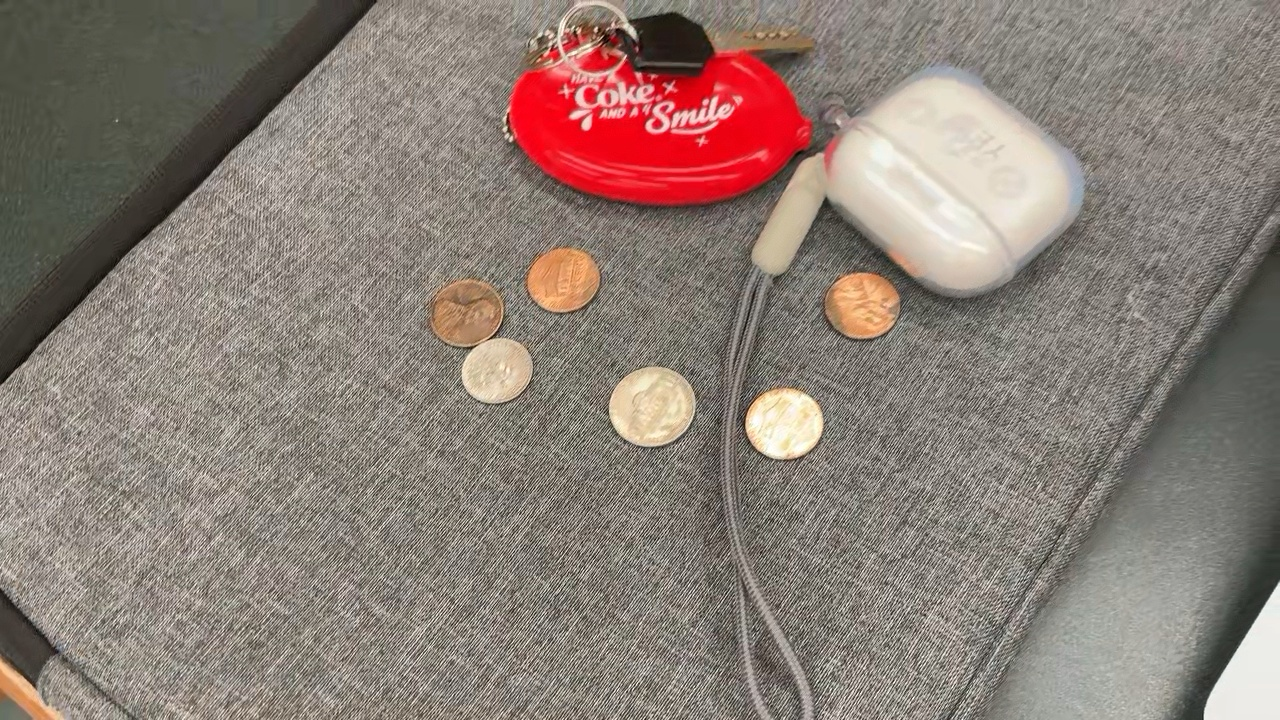dime: (461, 335, 537, 406)
nickle: (607, 364, 697, 451)
penny: (821, 269, 902, 341), (745, 388, 826, 459), (525, 248, 605, 317), (430, 280, 504, 346)
